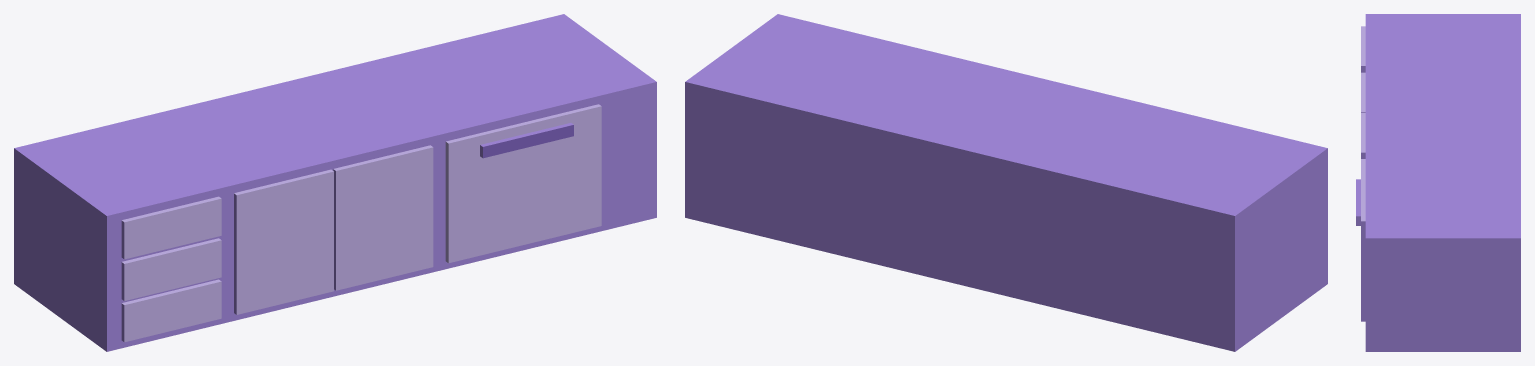
File: barra.fbx
The picture shows the model from 3 angles, left to right: view 1: azimuth 30°, elevation 25°; view 2: azimuth 150°, elevation 25°; view 3: azimuth 270°, elevation 25°; orthographic projection. The views are drawn at different scales.
Parts seen in each view (by area): view 1: barra; view 2: barra; view 3: barra.
Part boxes in pixels (x1,y1,x2,y2): barra: (14, 14, 656, 351); barra: (685, 14, 1327, 351); barra: (1356, 14, 1520, 351).
Size of the model in its own units: 1560 by 368 by 484.
